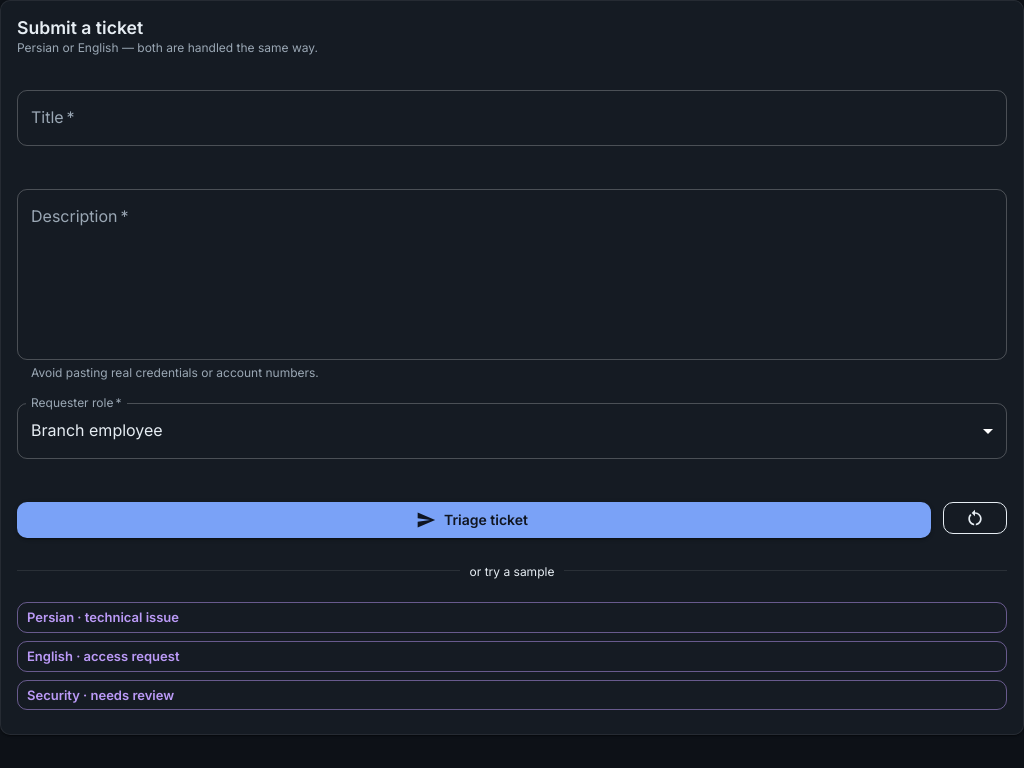
TicketForm › fills the form from a demo ticket
Click the button "Persian · technical issue" at (103, 617), box [17,602,1007,633]
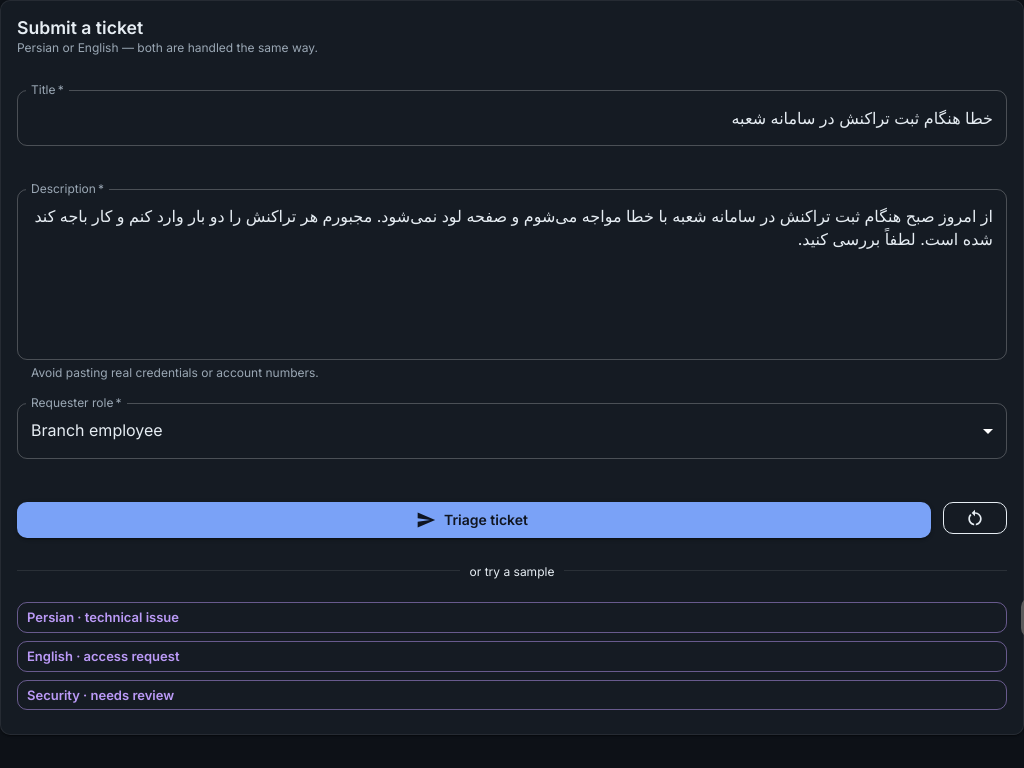
Expected: the field labelled "Title *" holds "خطا هنگام ثبت تراکنش در سامانه شعبه", [17,90,1007,146]
